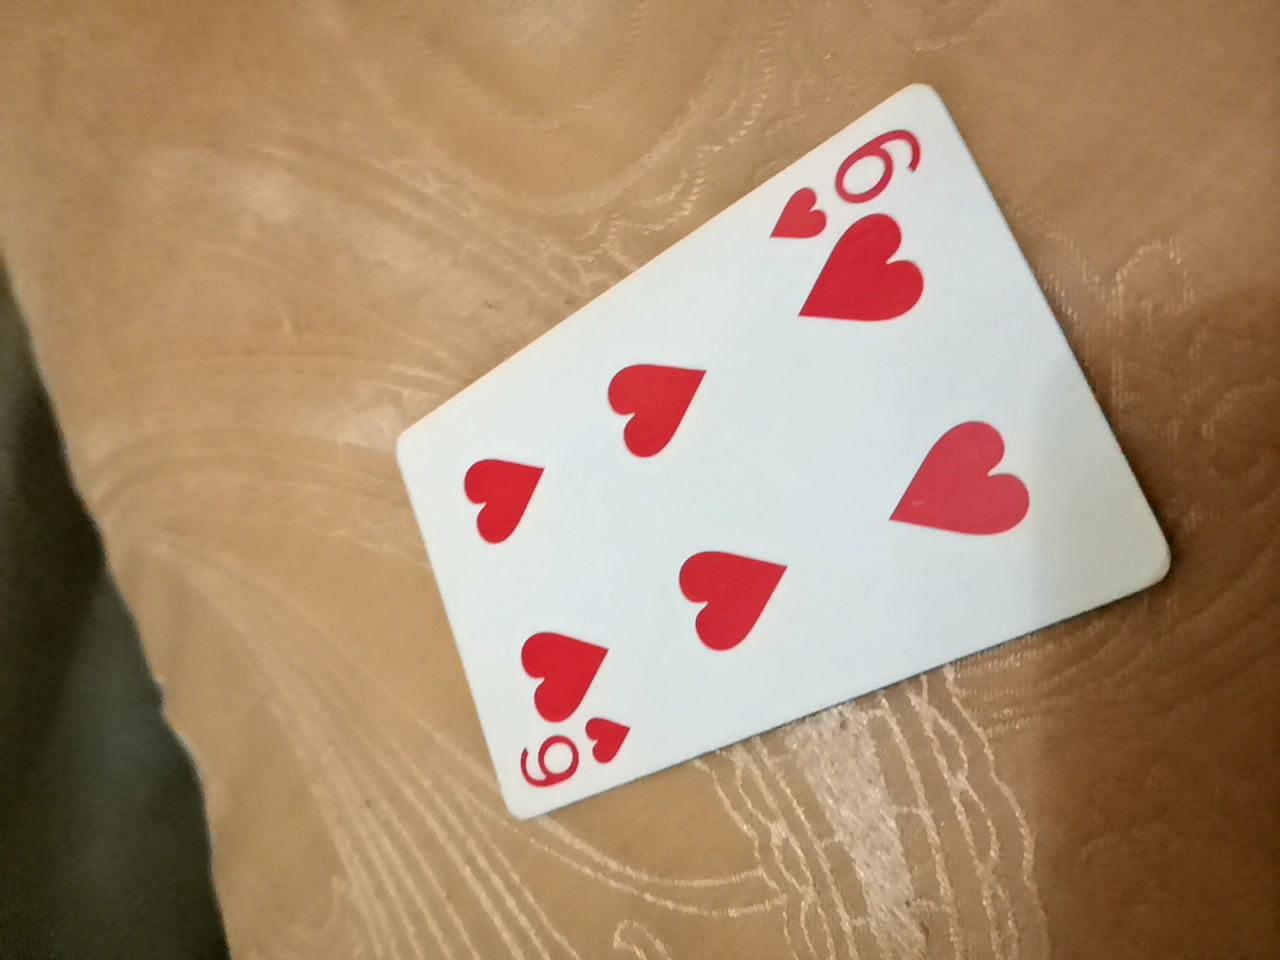hx 6: (393, 90, 1170, 815)
